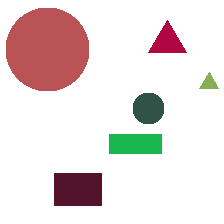circle: (6, 8, 88, 90), (133, 93, 163, 123)
rectangle: (54, 173, 101, 205), (109, 134, 161, 153)
triangle: (148, 20, 186, 52), (199, 72, 218, 88)
